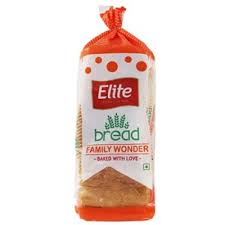bread: (69, 3, 158, 221)
